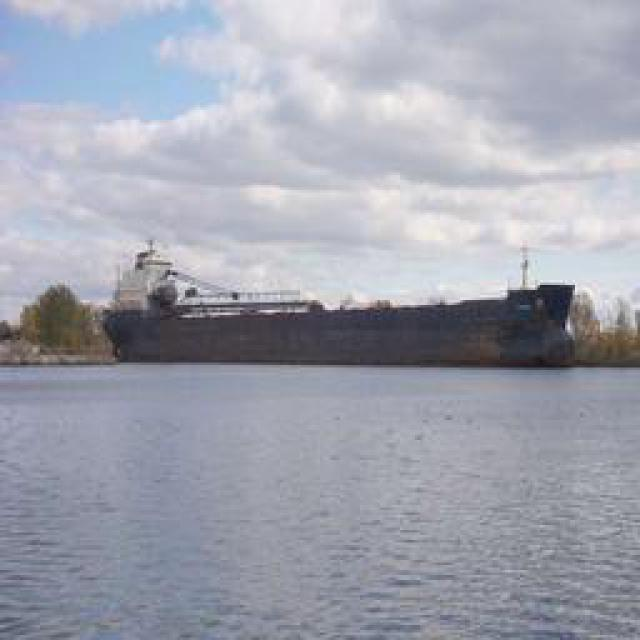Ship: (106, 256, 586, 369)
